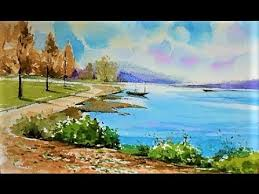lake: (100, 82, 257, 156)
sky: (77, 25, 259, 83)
tree: (2, 25, 40, 103), (32, 34, 76, 98)
